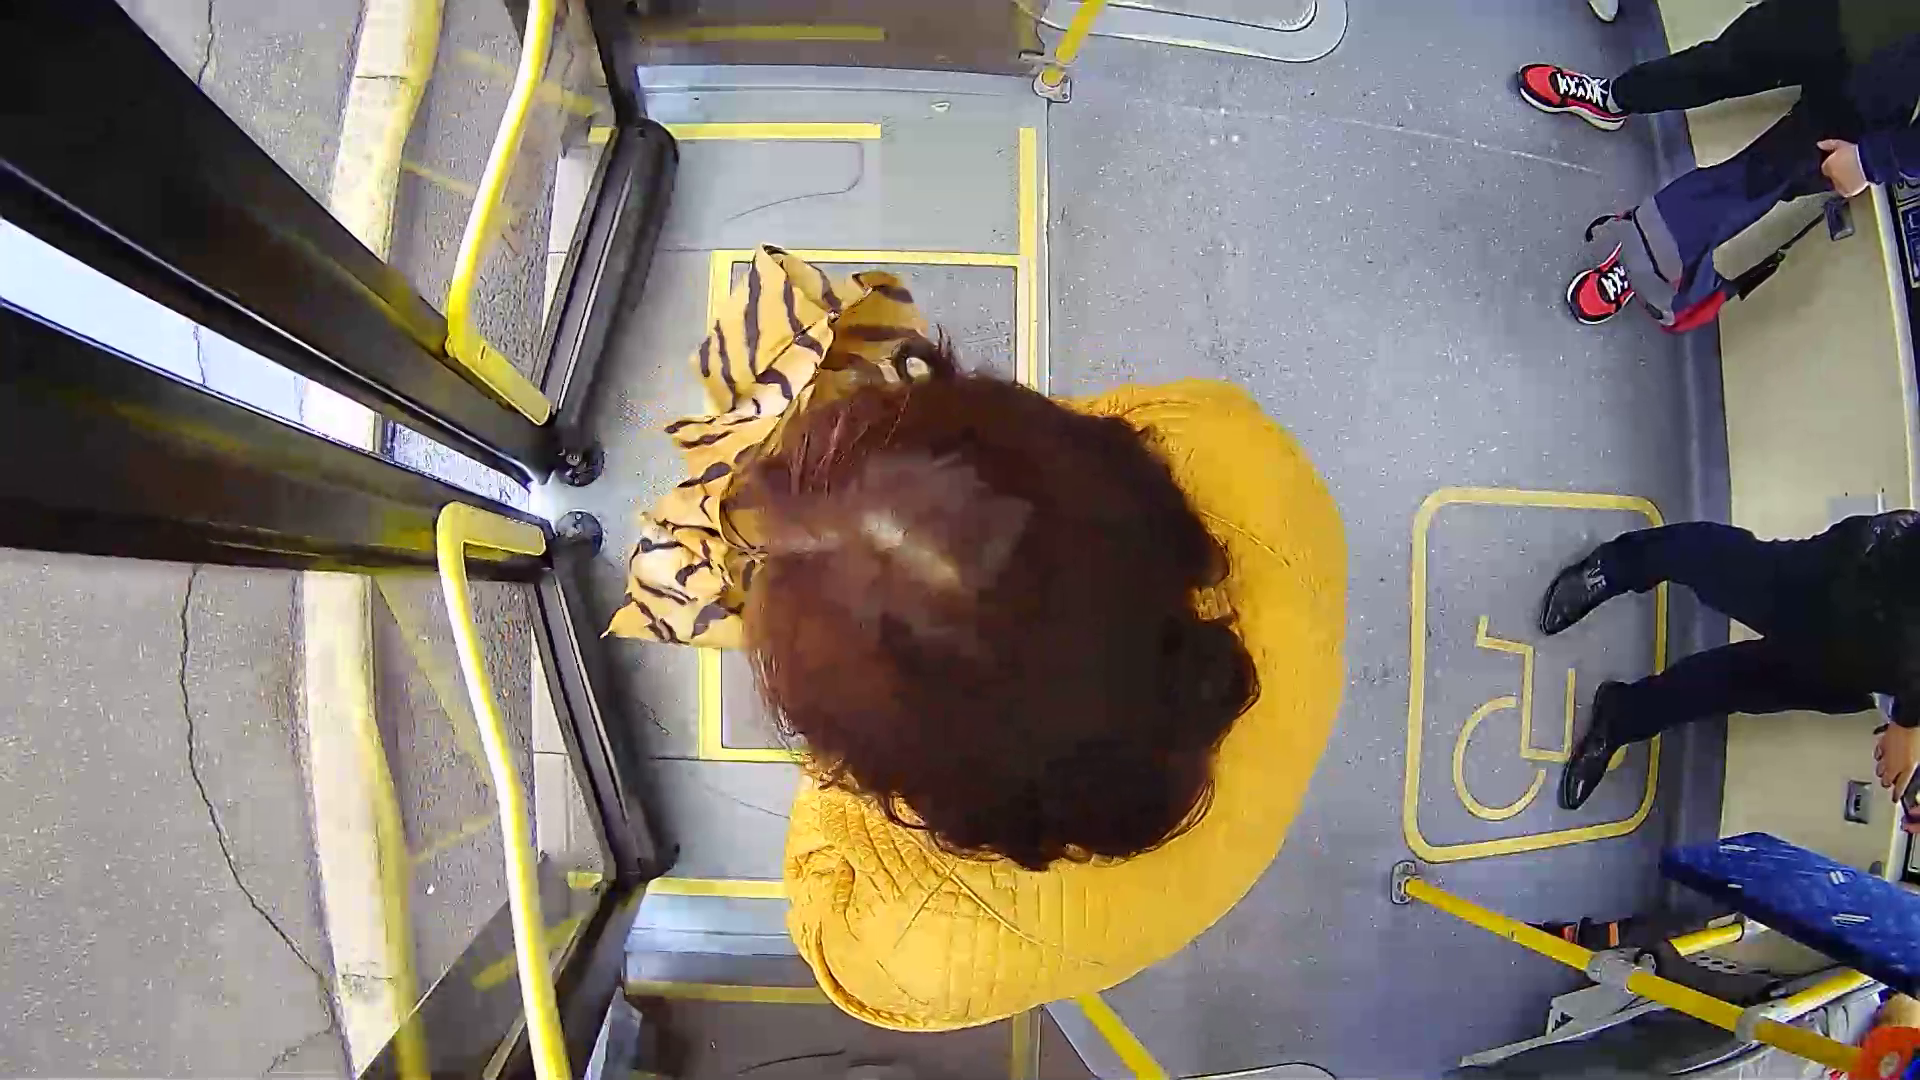person: (620, 295, 1457, 982)
